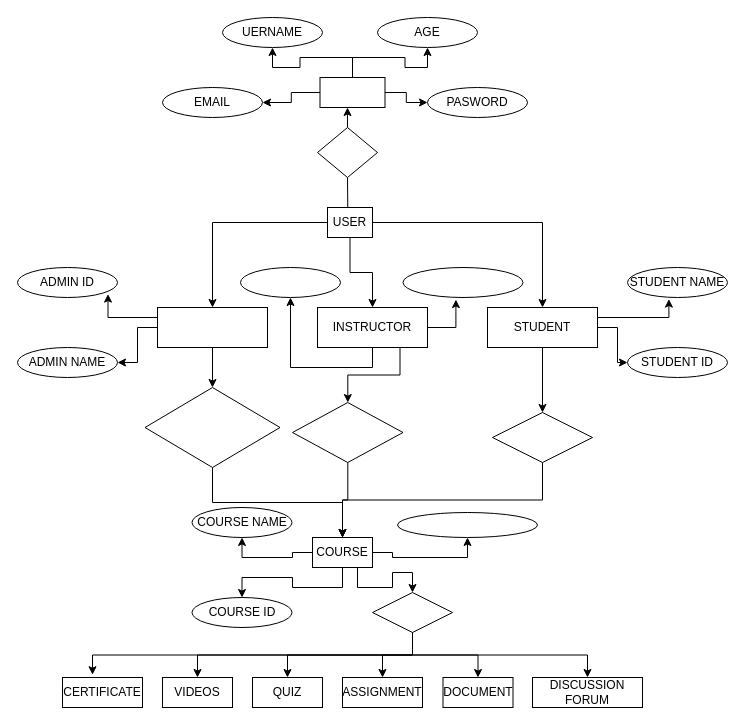
Some shapes in this 745 by 725 pixel diagram are drawn without their labels. Here are the shapes that lost their labels. From the top down, the box of each, then its label:
(319, 76, 385, 108): ACCOUNT
(316, 126, 378, 178): HAS
(240, 266, 340, 298): INSTRUCTOR ID
(402, 266, 523, 298): INSTRUCTOR NAME
(156, 306, 268, 348): ADMINISTRATOR
(144, 386, 280, 468): VIEW CREATE EDIT DELETE
(292, 402, 403, 462): VIEW CREATE EDIT
(492, 412, 592, 462): VIEW
(396, 512, 538, 538): COURSE CATEGORY
(372, 592, 452, 632): CONTAINS
